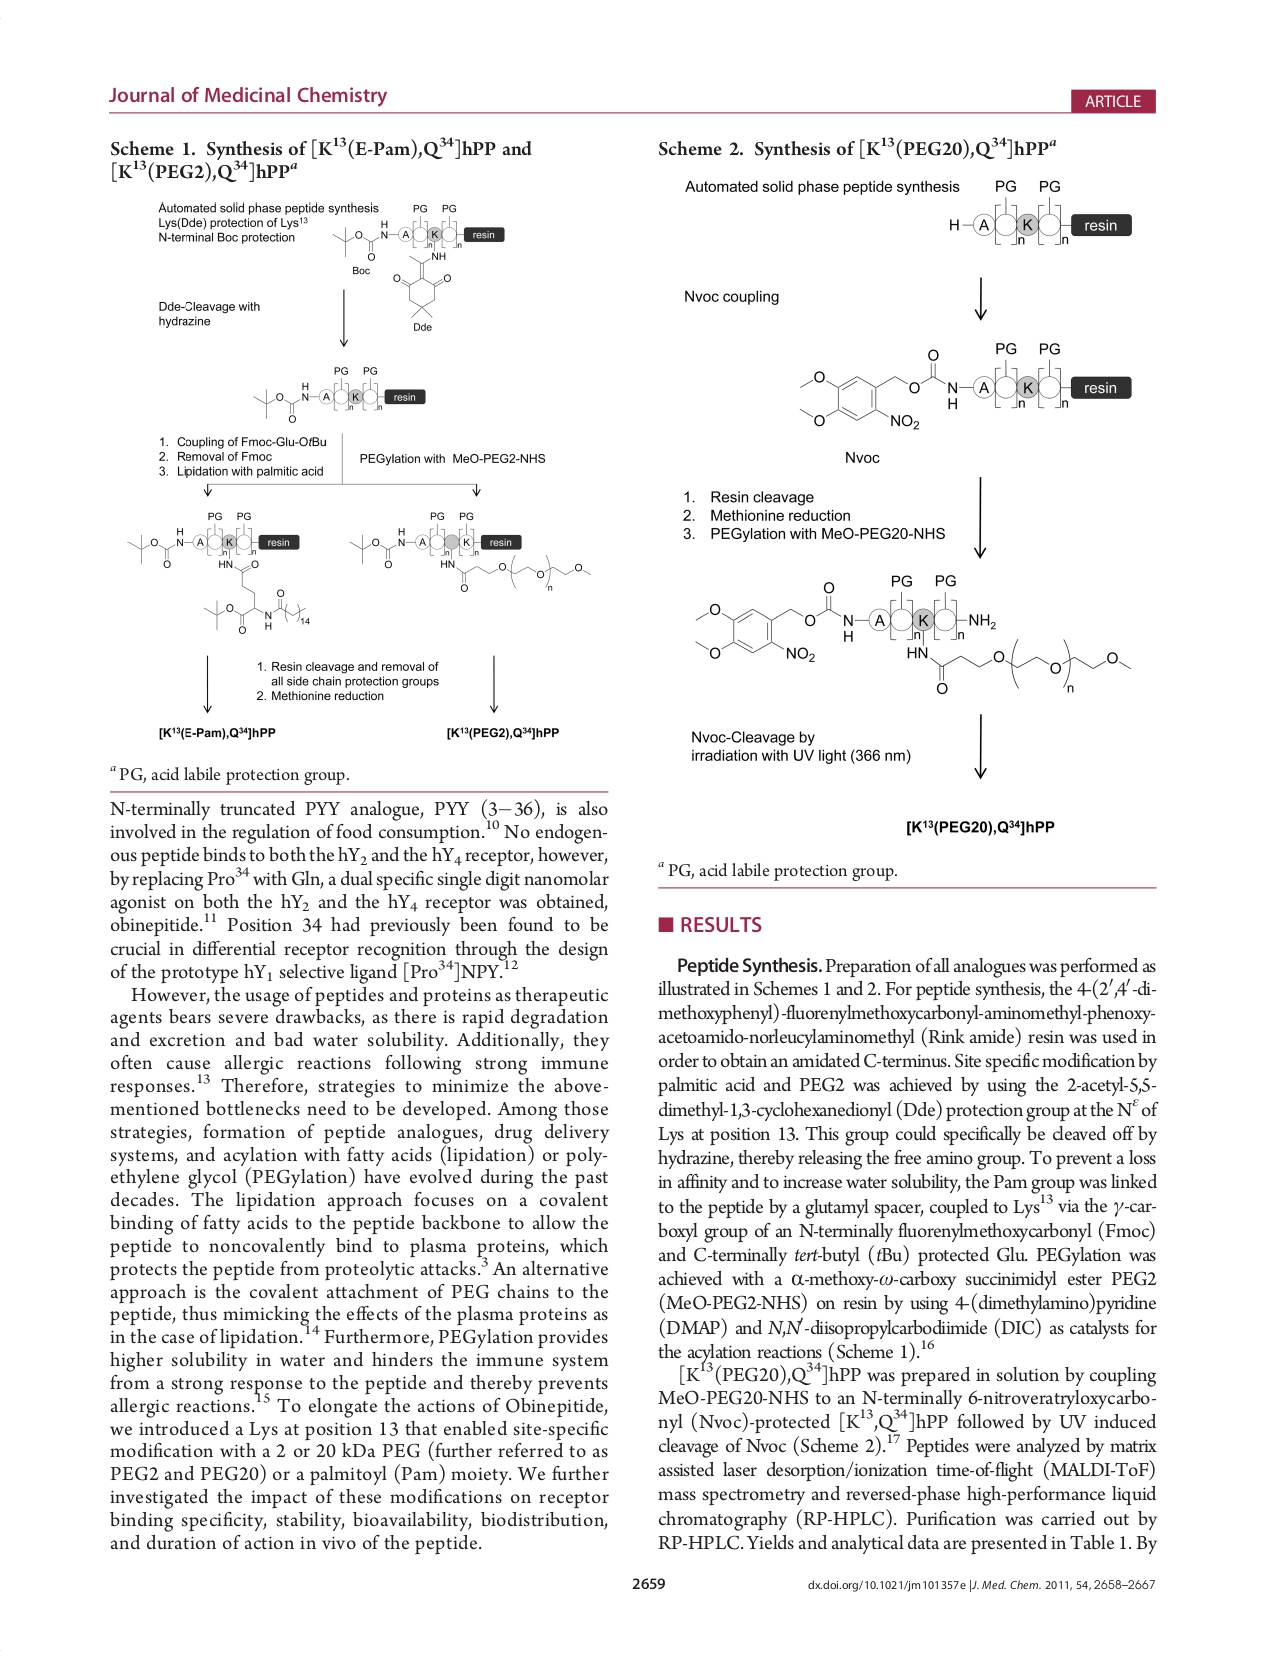exist_molecular: (685, 568, 1133, 701), (786, 335, 1134, 430), (122, 505, 319, 638), (344, 507, 593, 598), (332, 202, 513, 318), (946, 172, 1138, 253), (246, 359, 432, 424)
